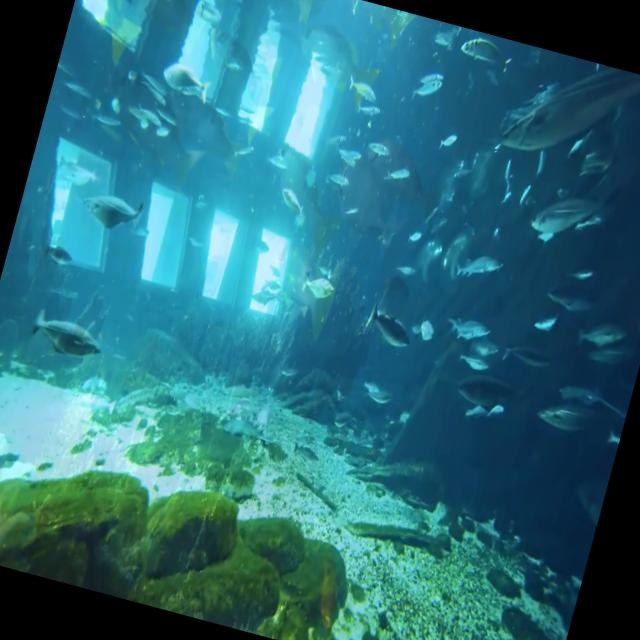fish: (490, 45, 632, 182), (436, 363, 533, 432), (23, 300, 108, 370), (355, 302, 422, 362), (84, 176, 146, 238)
